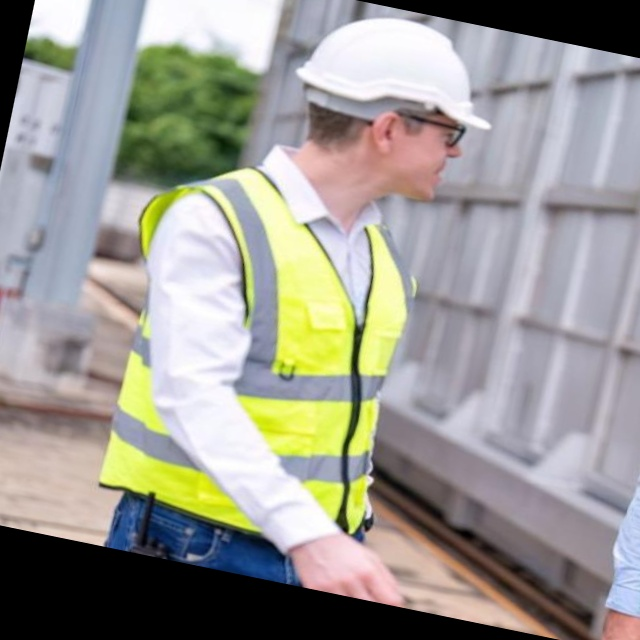Con_Casco: (278, 0, 510, 213)
Con_Chaleco: (96, 161, 436, 555)
